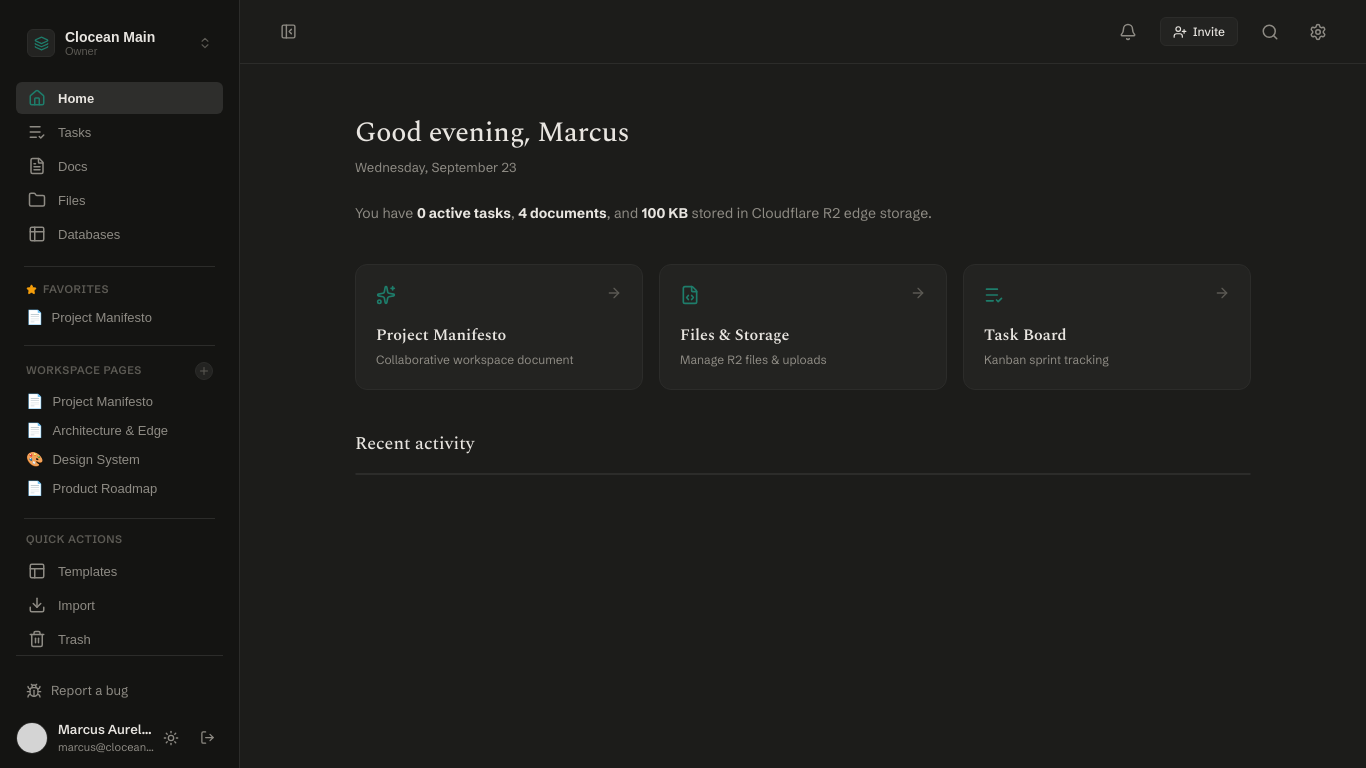
Test: Clocean - Workspace Navigation & Embedded Database Suite › 5. Opens usable Templates and restores a deleted page from Trash
The image size is (1366, 768).
Click the button "Templates". click: [120, 571]
box: [16, 555, 223, 587]
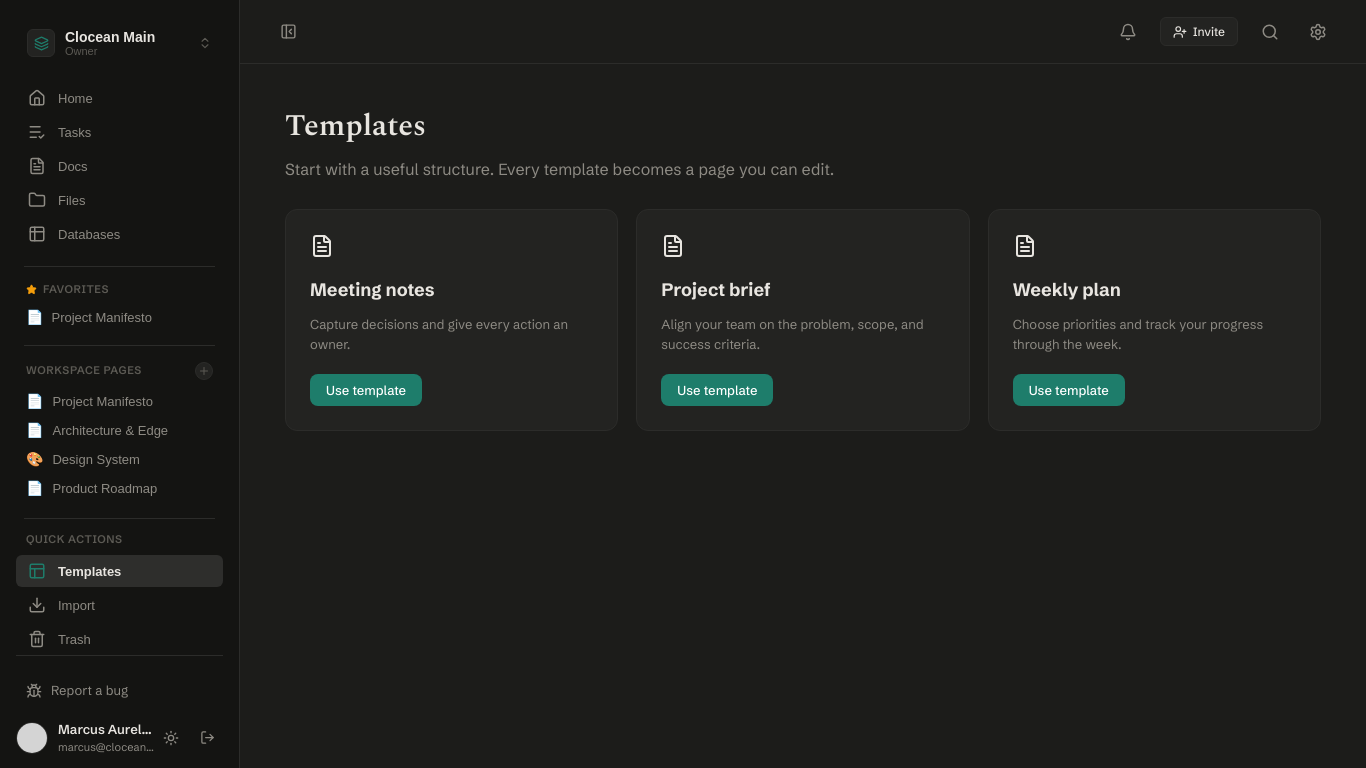
Now the heading "Templates" is shown, box [285, 103, 426, 149]
Now the button "Use template" below "Meeting notes" is enabled, box [310, 374, 422, 406]
Click the button "Trash". click: [120, 639]
box: [16, 623, 223, 655]
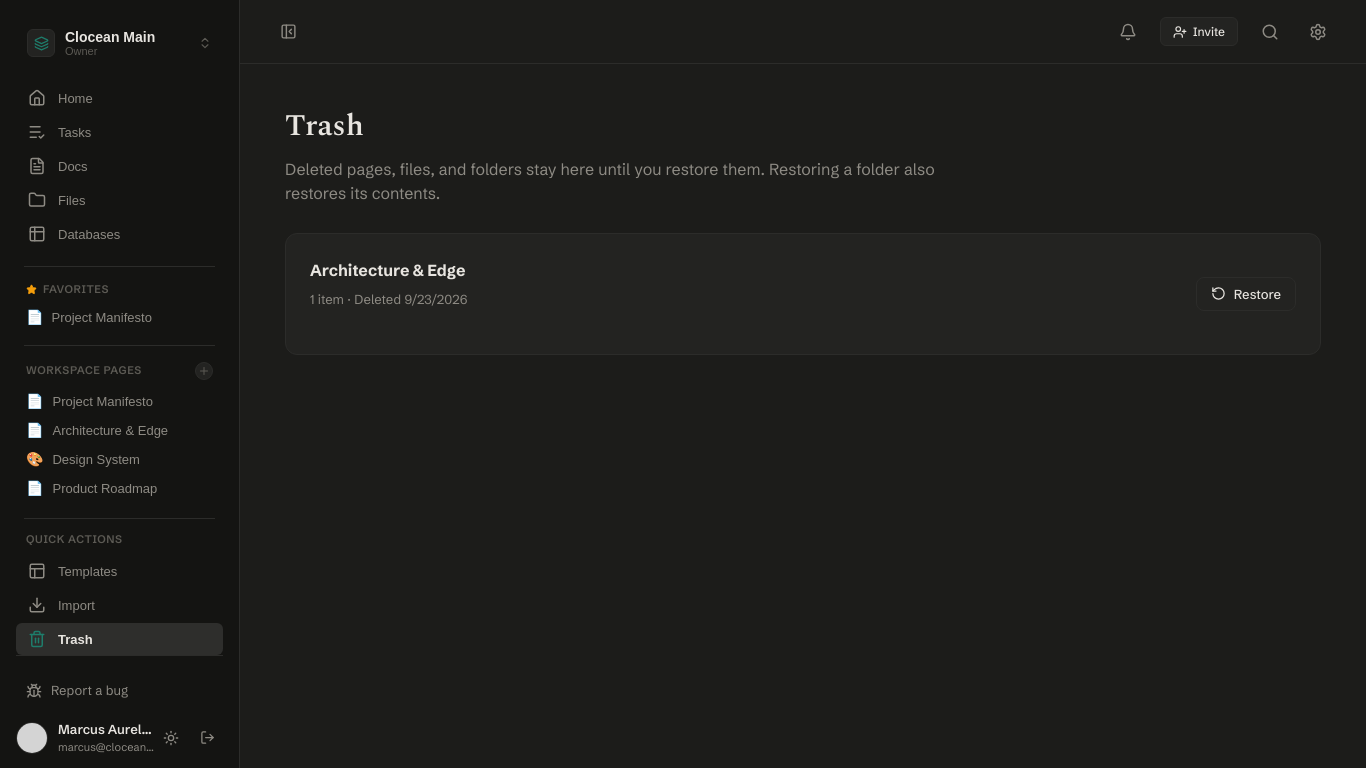
Click the button "Restore". click: [1246, 294]
box: [1196, 277, 1296, 311]
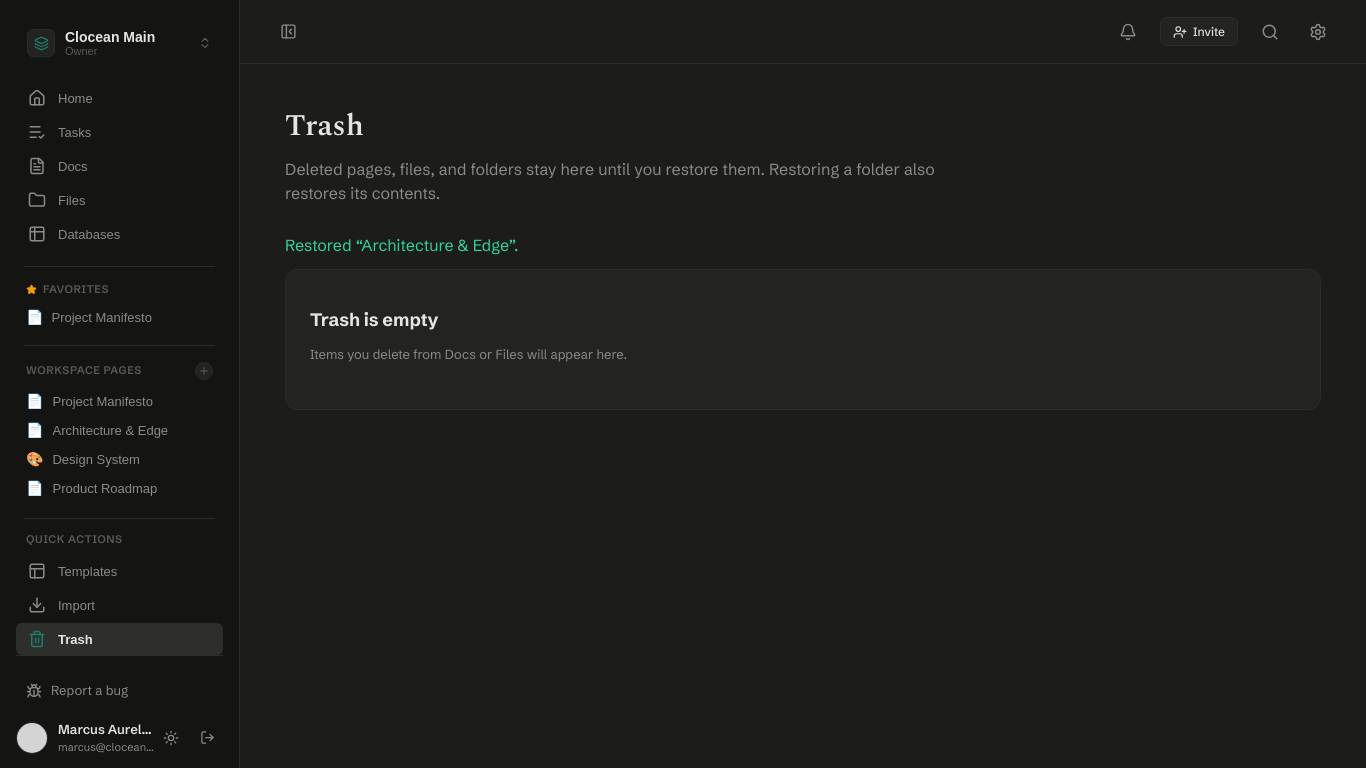
Now the text "Restored “Architecture & Edge”." is shown, box [285, 235, 518, 255]
